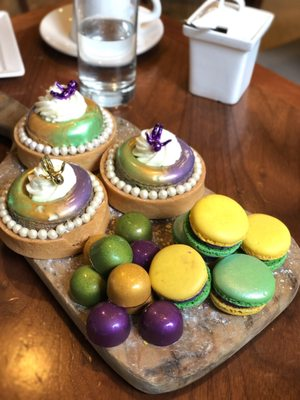pizza: (73, 0, 140, 108)
taco: (189, 193, 250, 246)
